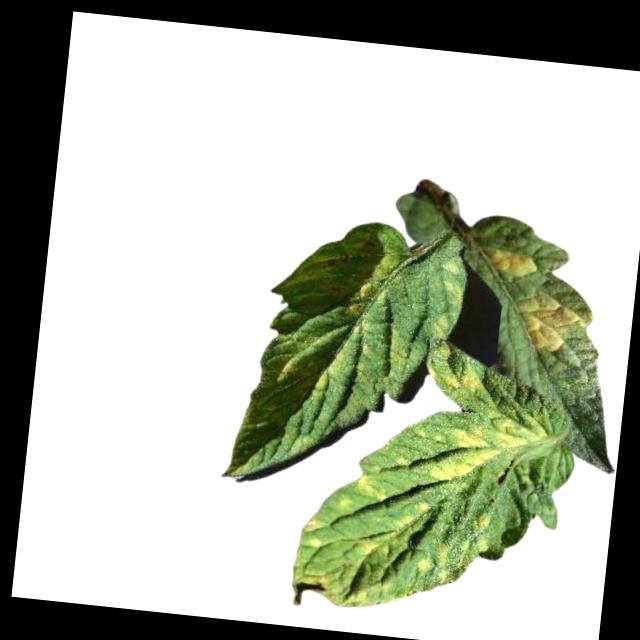Leaf_Mold: (290, 508, 413, 614), (428, 398, 551, 492), (510, 288, 594, 358), (345, 250, 397, 323), (486, 244, 541, 279), (458, 510, 495, 556), (356, 464, 392, 507), (417, 540, 452, 584), (384, 325, 412, 377), (443, 365, 481, 398), (276, 357, 310, 378), (441, 278, 467, 305)
